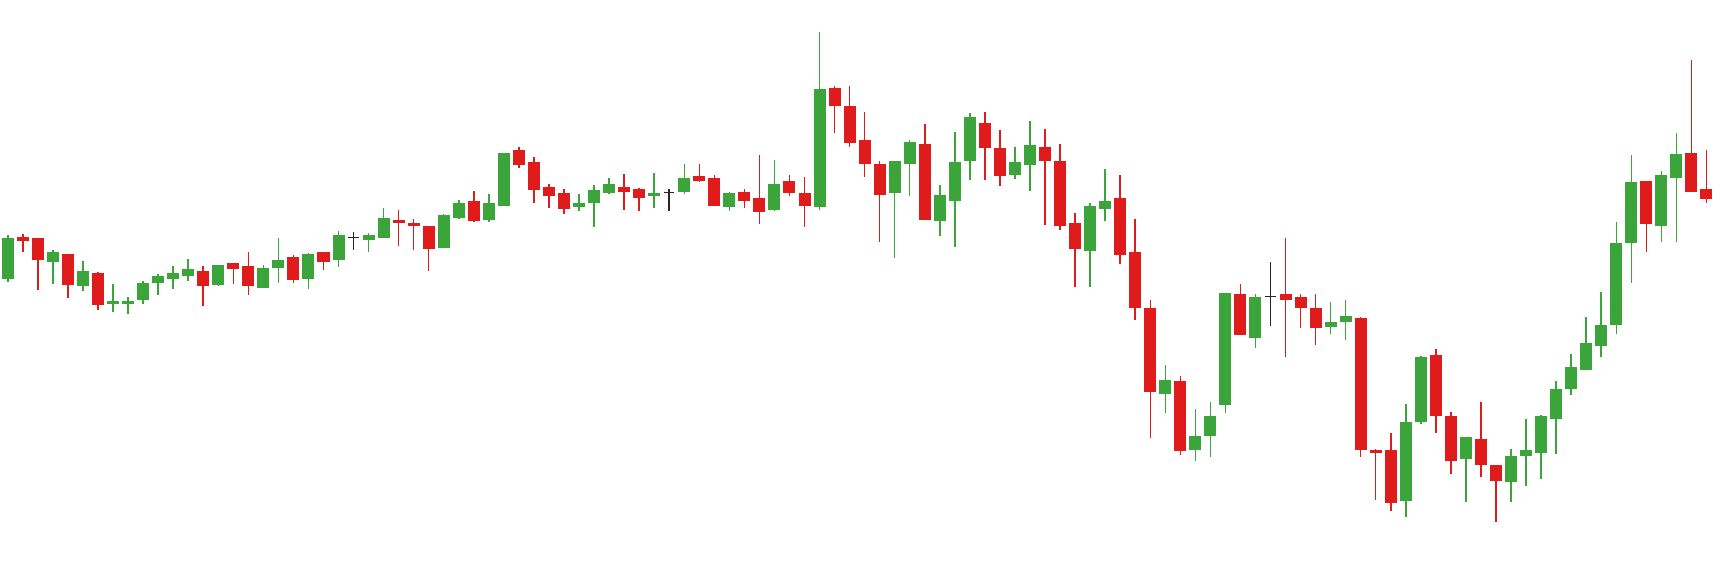buy: (1190, 370, 1416, 520)
